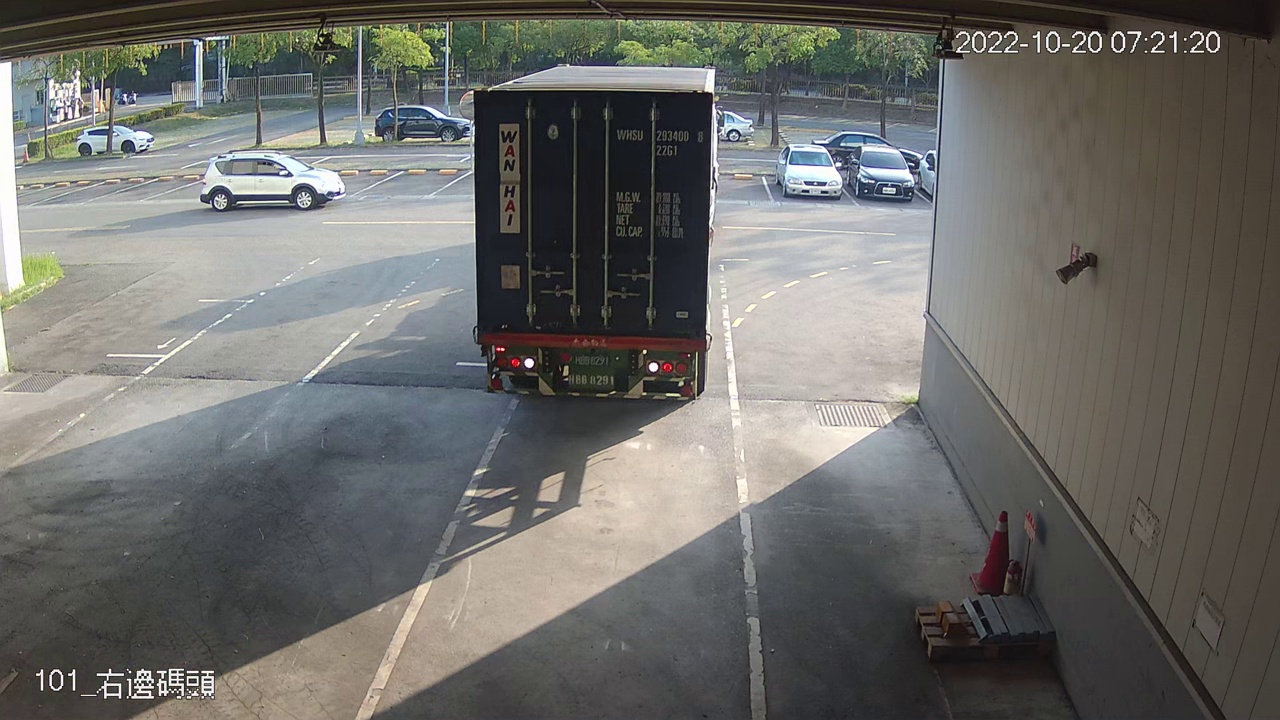container: (611, 122, 706, 162)
